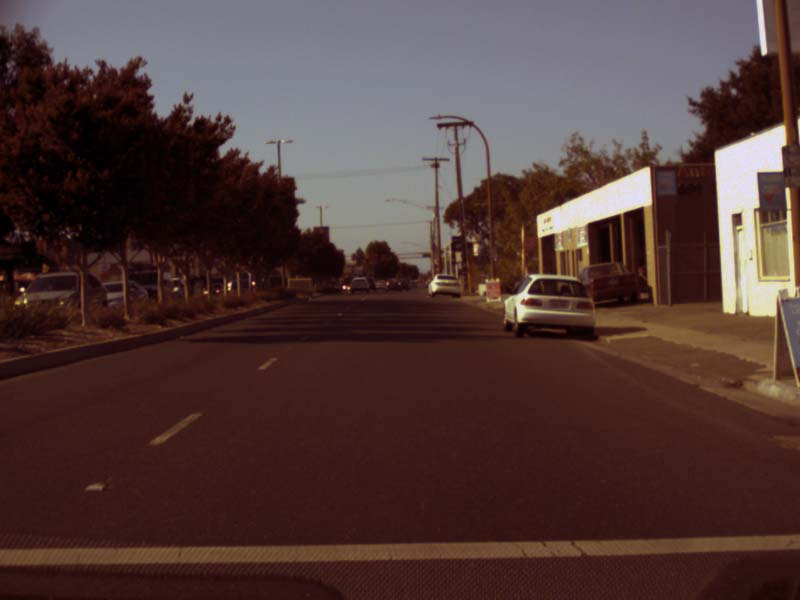Green: (388, 252, 392, 259)
Red: (365, 255, 369, 261)
